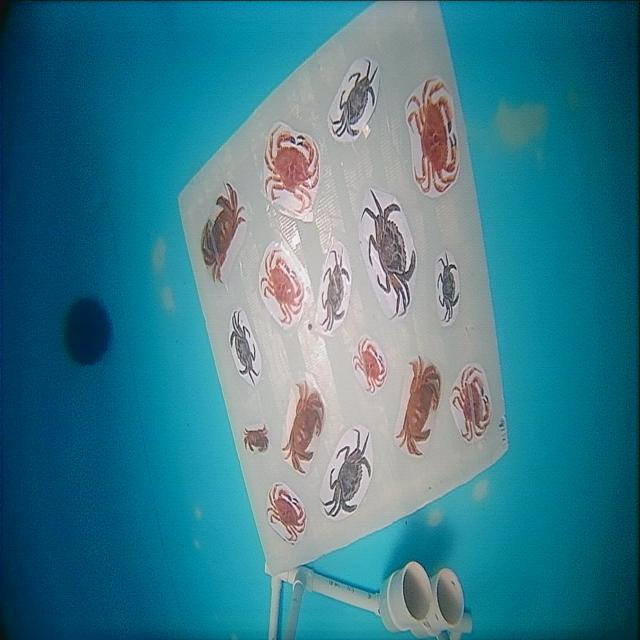GreenCrab: (362, 190, 415, 318), (323, 430, 371, 516), (331, 60, 377, 137), (230, 311, 260, 385), (437, 252, 459, 321)
